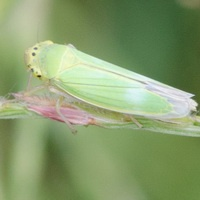insect: (23, 41, 199, 135)
